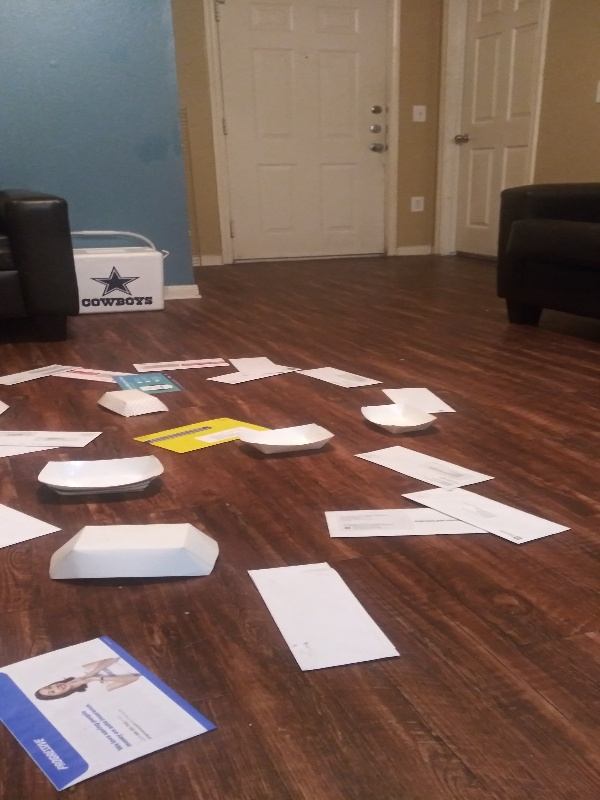plate: (45, 519, 229, 586), (34, 449, 166, 500), (236, 419, 337, 458), (354, 401, 440, 441), (90, 384, 176, 420)
